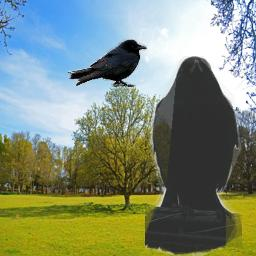Crow: (145, 56, 242, 256), (68, 39, 147, 87)
